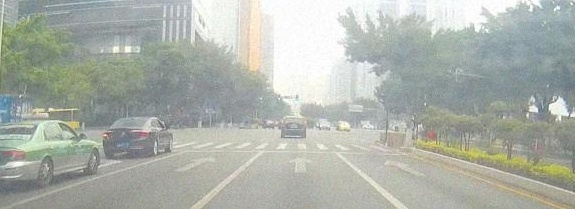L_light: (104, 131, 113, 136)
R_light: (135, 131, 148, 136)
T_light: (131, 119, 138, 121)
day-no: (103, 117, 151, 157)
